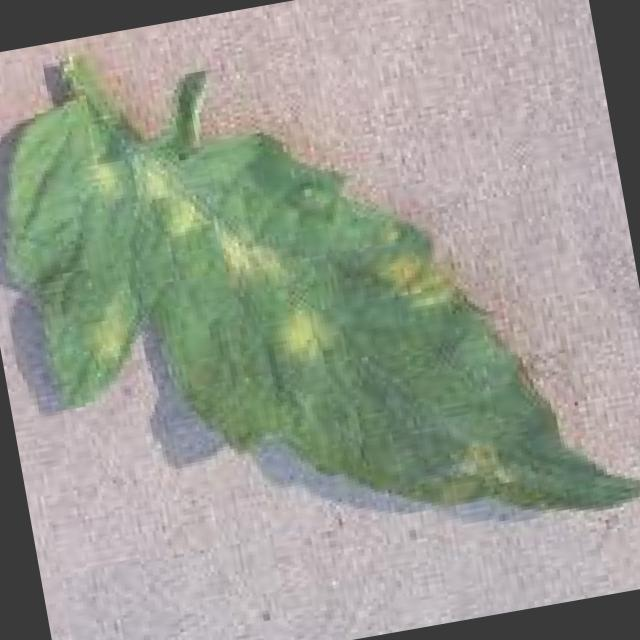leaf mold: (3, 42, 640, 516)
